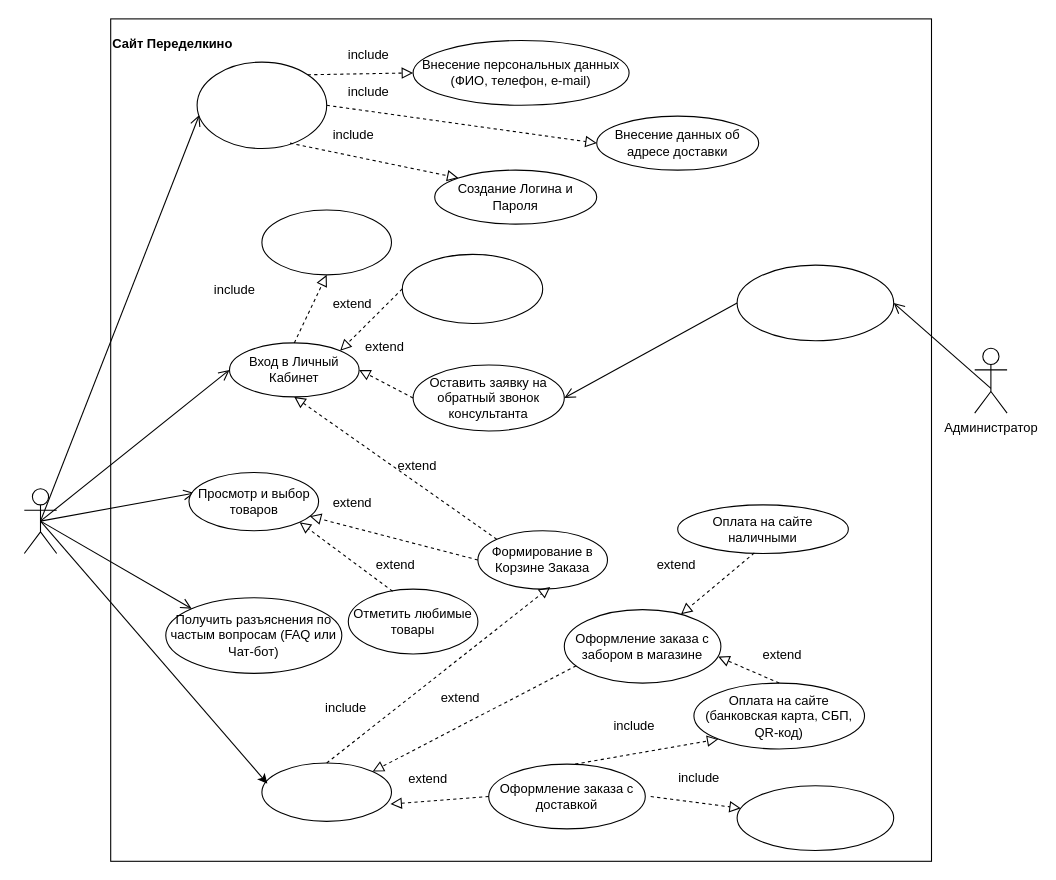
Some shapes in this 1056 by 880 pixel diagram are drawn without their labels. Here are the shapes that lost their labels. From the top down, the box of each, then its label:
(196, 61, 327, 148): Регистрация
(261, 209, 392, 275): Внести Логин и Пароль
(401, 253, 543, 323): Просмотр истории заказов и статуса заказов
(736, 264, 894, 341): Предоставить консультацию обратным телефонным звонком
(23, 488, 57, 554): Клиент
(261, 762, 392, 821): Оформление заказа
(736, 785, 894, 850): Подтверждение / корректировка адреса доставки
